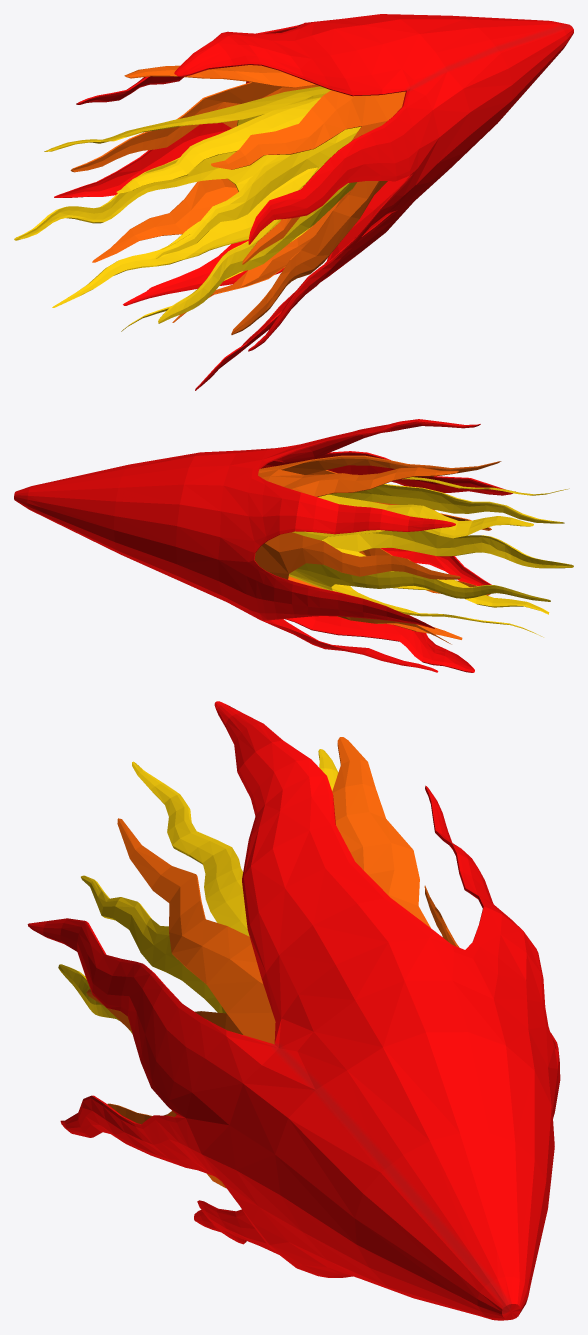
Rendered from Flames.obj.
The picture shows the model from 3 angles, top to bottom: view 1: azimuth 30°, elevation 25°; view 2: azimuth 150°, elevation 25°; view 3: azimuth 270°, elevation 25°; orthographic projection. The views are drawn at different scales.
Visible parts, largest first — view 1: Object.1, Object.2; view 2: Object.1, Object.2; view 3: Object.1, Object.2.
Part boxes in pixels (bbox=[...]): Object.1: bbox=[54, 14, 573, 390]; Object.2: bbox=[14, 65, 405, 334]; Object.1: bbox=[14, 419, 515, 672]; Object.2: bbox=[254, 455, 573, 644]; Object.1: bbox=[27, 701, 560, 1320]; Object.2: bbox=[58, 737, 459, 1188].
Bounding box in the file's own units: 35.2 × 17.63 × 16.46.
Materials: 1 (1 with a texture image).
